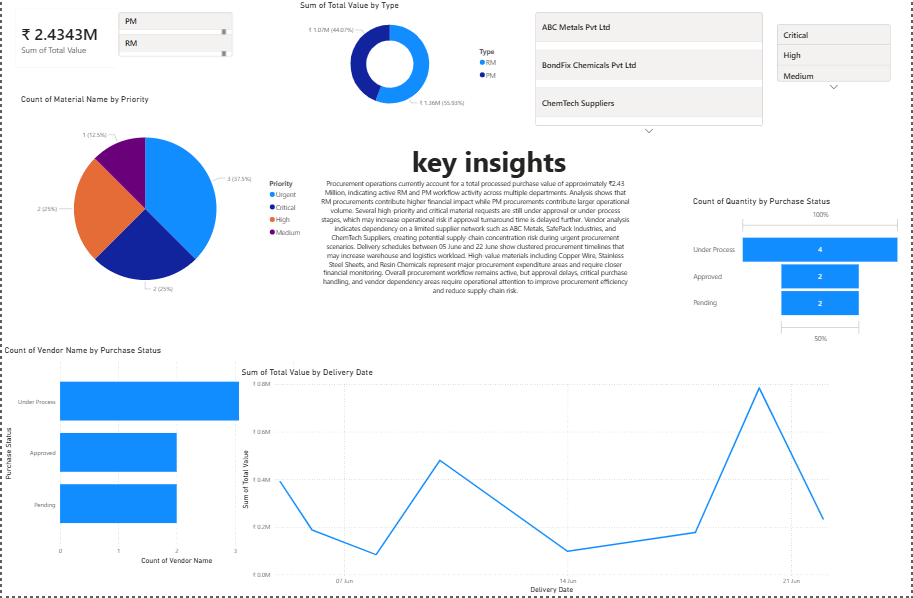

The dashboard page shown, as its layout file describes it:
{"tool":"powerbi","page":{"name":"Page 1","canvas":[1838,1204],"ordinal":0},"visuals":[{"type":"cardVisual","fields":{"Data":["Sum(Sheet1.Total Value)"]},"box":[9.4,0,240,155],"z":0},{"type":"cardVisual","fields":{"Rows":["Sheet1.Type"]},"box":[230.6,0,240,139.8],"z":1},{"type":"cardVisual","fields":{"Rows":["Sheet1.Vendor Name"]},"box":[1072.2,0,469.4,280.6],"z":2},{"type":"cardVisual","fields":{"Rows":["Sheet1.Priority"]},"box":[1560,23.9,239.2,167.4],"z":3},{"type":"donutChart","fields":{"Category":["Sheet1.Type"],"Y":["Sum(Sheet1.Total Value)"]},"box":[597.2,0,422.2,238.9],"z":4},{"type":"pieChart","fields":{"Category":["Sheet1.Priority"],"Y":["CountNonNull(Sheet1.Material Name)"]},"box":[33.3,191.7,583.3,441.7],"z":5},{"type":"barChart","fields":{"Category":["Sheet1.Purchase Status"],"Y":["CountNonNull(Sheet1.Vendor Name)"]},"box":[0,697.2,597.2,447.2],"z":6},{"type":"funnel","fields":{"Category":["Sheet1.Purchase Status"],"Y":["CountNonNull(Sheet1.Quantity)"]},"box":[1391.7,397.2,427.8,302.8],"z":7},{"type":"lineChart","fields":{"Category":["Sheet1.Delivery Date"],"Y":["Sum(Sheet1.Total Value)"]},"box":[477.8,741.7,1202.8,461.1],"z":8},{"type":"textbox","box":[616,239,403,395],"z":9},{"type":"textbox","box":[638.9,280.6,633.3,377.8],"z":10}]}

Visuals, with their boxes in screenshot pixels (x1, y1, x2, y2), scaled from the page's 1838x1204 canvas onto the 913x598 screenshot:
cardVisual - Sum(Sheet1.Total Value): select_region(5, 0, 124, 77)
cardVisual - Sheet1.Type: select_region(115, 0, 234, 69)
cardVisual - Sheet1.Vendor Name: select_region(533, 0, 766, 139)
cardVisual - Sheet1.Priority: select_region(775, 12, 894, 95)
donutChart - Sheet1.Type x Sum(Sheet1.Total Value): select_region(297, 0, 506, 119)
pieChart - Sheet1.Priority x CountNonNull(Sheet1.Material Name): select_region(17, 95, 306, 315)
barChart - Sheet1.Purchase Status x CountNonNull(Sheet1.Vendor Name): select_region(0, 346, 297, 568)
funnel - Sheet1.Purchase Status x CountNonNull(Sheet1.Quantity): select_region(691, 197, 904, 348)
lineChart - Sheet1.Delivery Date x Sum(Sheet1.Total Value): select_region(237, 368, 835, 597)
textbox: select_region(306, 119, 506, 315)
textbox: select_region(317, 139, 632, 327)
